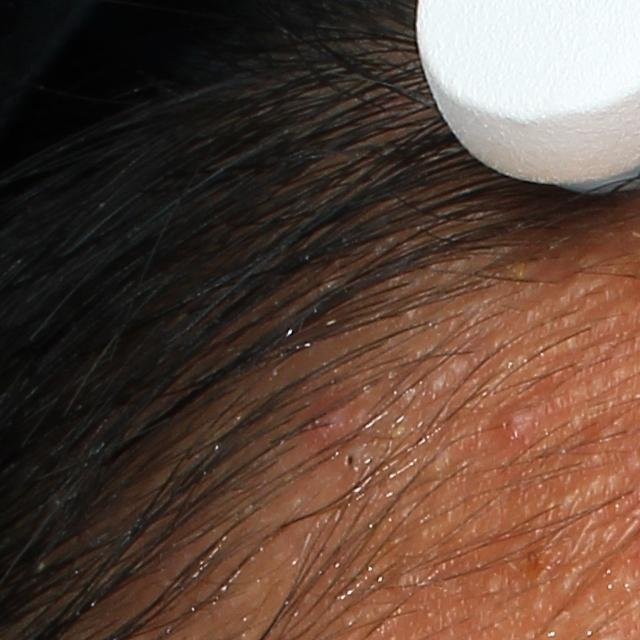comedo: (338, 432, 383, 480), (555, 269, 603, 300), (389, 560, 425, 597), (430, 372, 450, 394)
papule: (300, 387, 362, 440), (496, 398, 543, 440)
